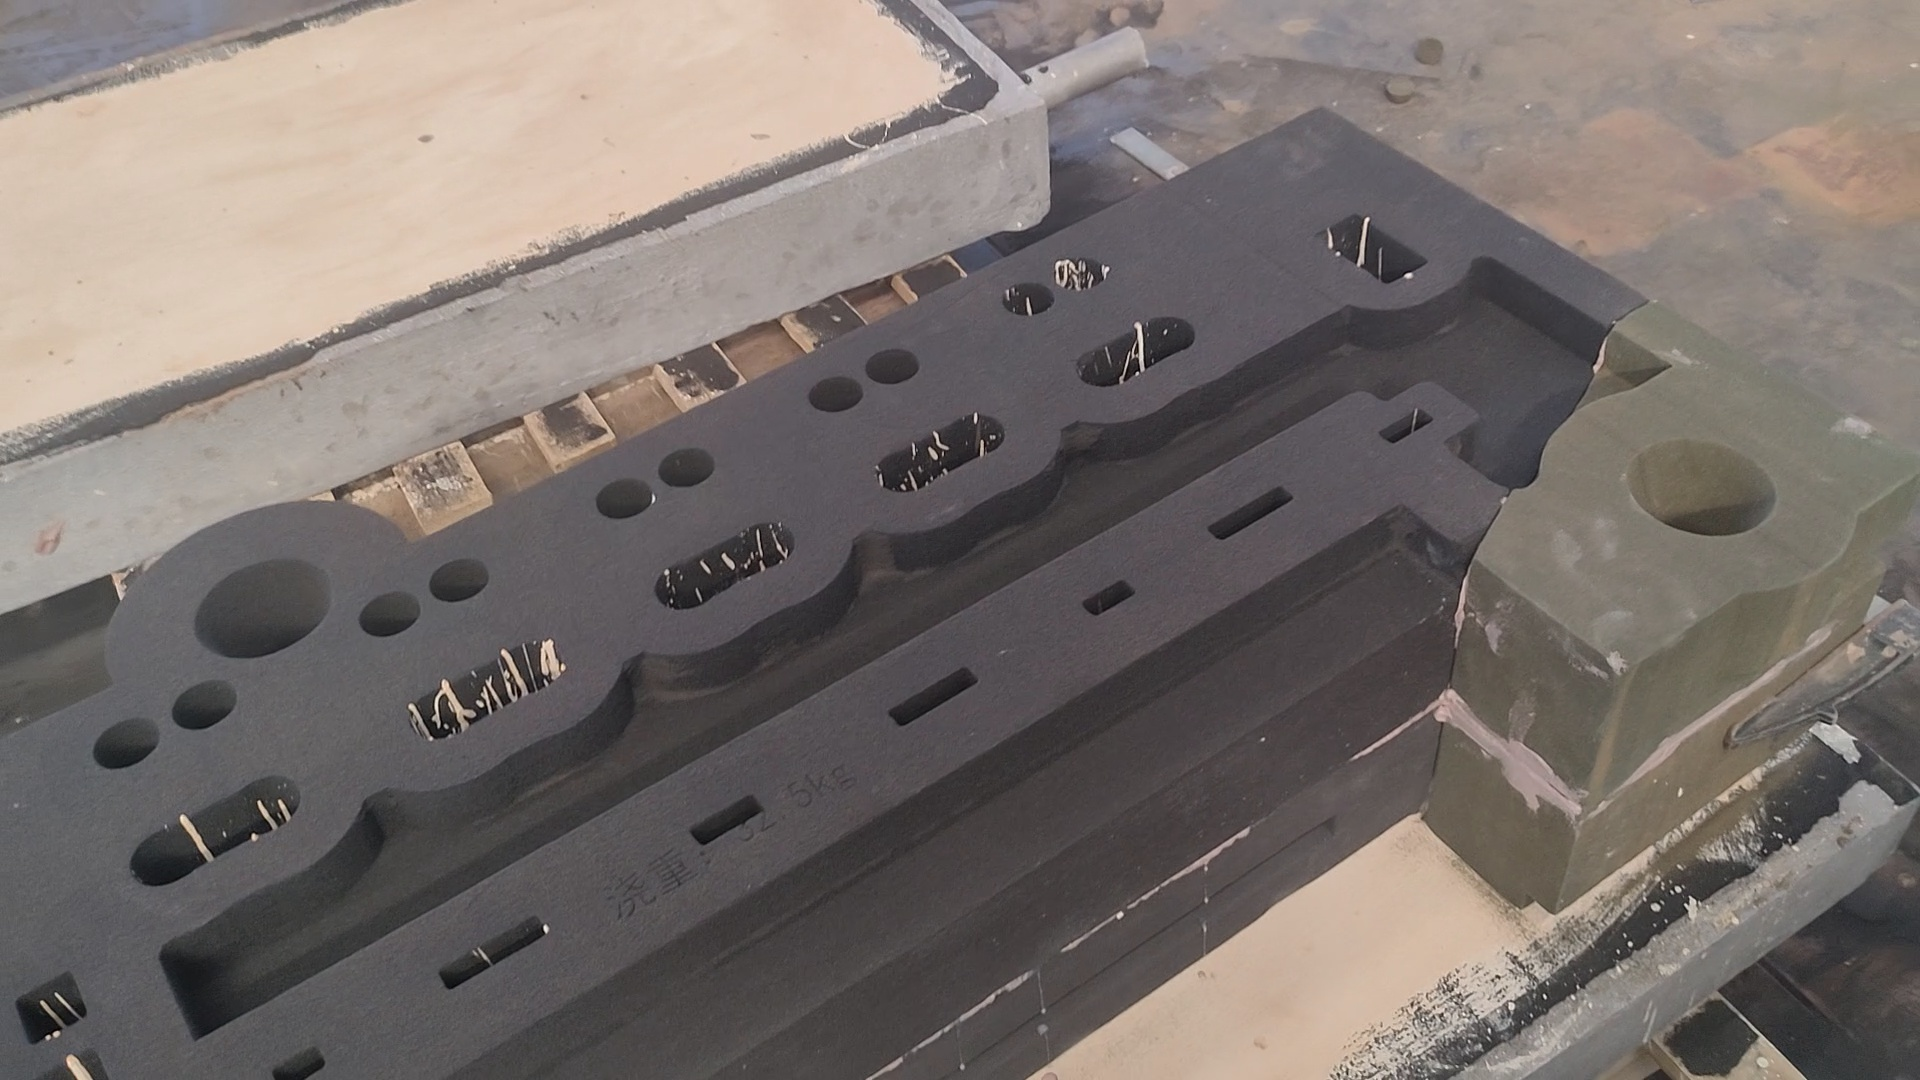pouring hole: (1627, 436, 1775, 535), (194, 556, 331, 661)
